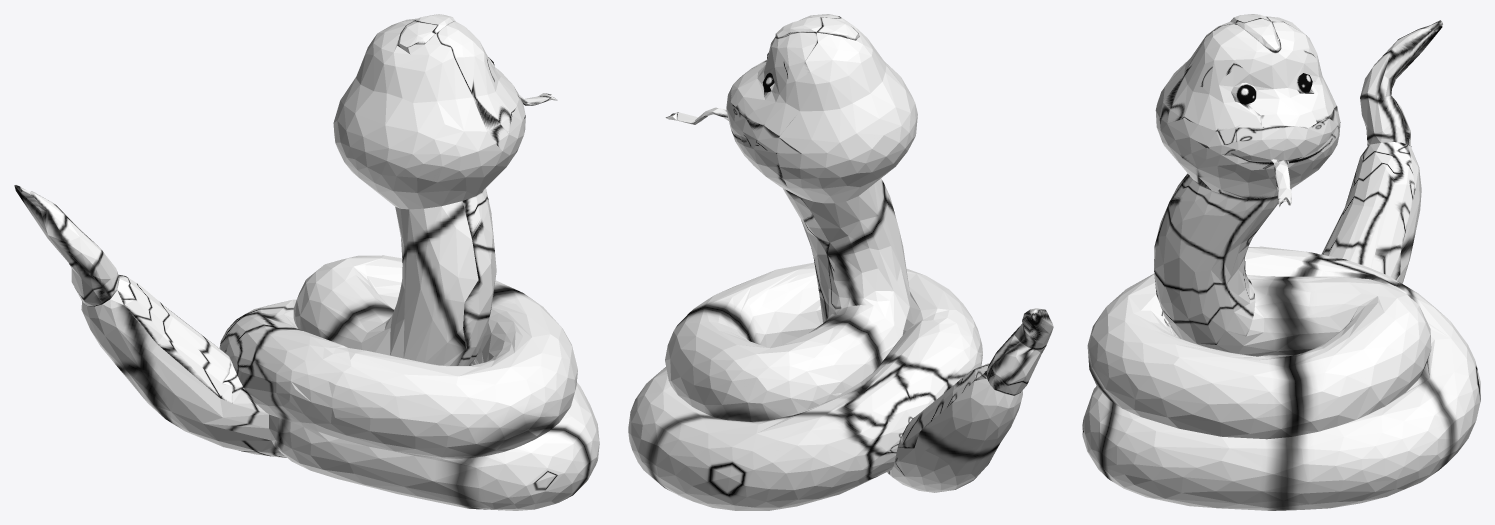
The model's file is SERPENT.fbx.
3 renders of one model, left to right at view 1: azimuth 30°, elevation 25°; view 2: azimuth 150°, elevation 25°; view 3: azimuth 270°, elevation 25°, orthographic. The views are drawn at different scales.
Parts seen in each view (by area): view 1: Serpent; view 2: Serpent; view 3: Serpent.
Boxes of the visible parts, bbox=[...] form: Serpent: bbox=[14, 14, 599, 510]; Serpent: bbox=[628, 14, 1053, 510]; Serpent: bbox=[1082, 14, 1480, 510].
Size of the model in its own units: 230 by 211 by 174.
